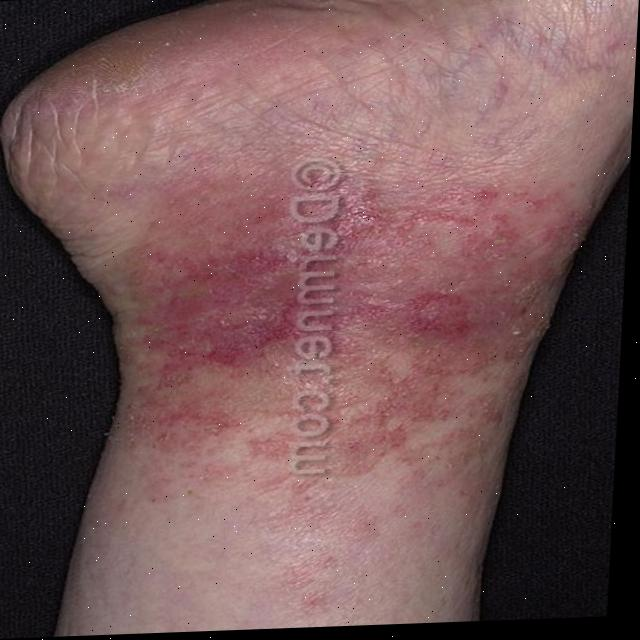Eczema: (87, 168, 521, 500)
